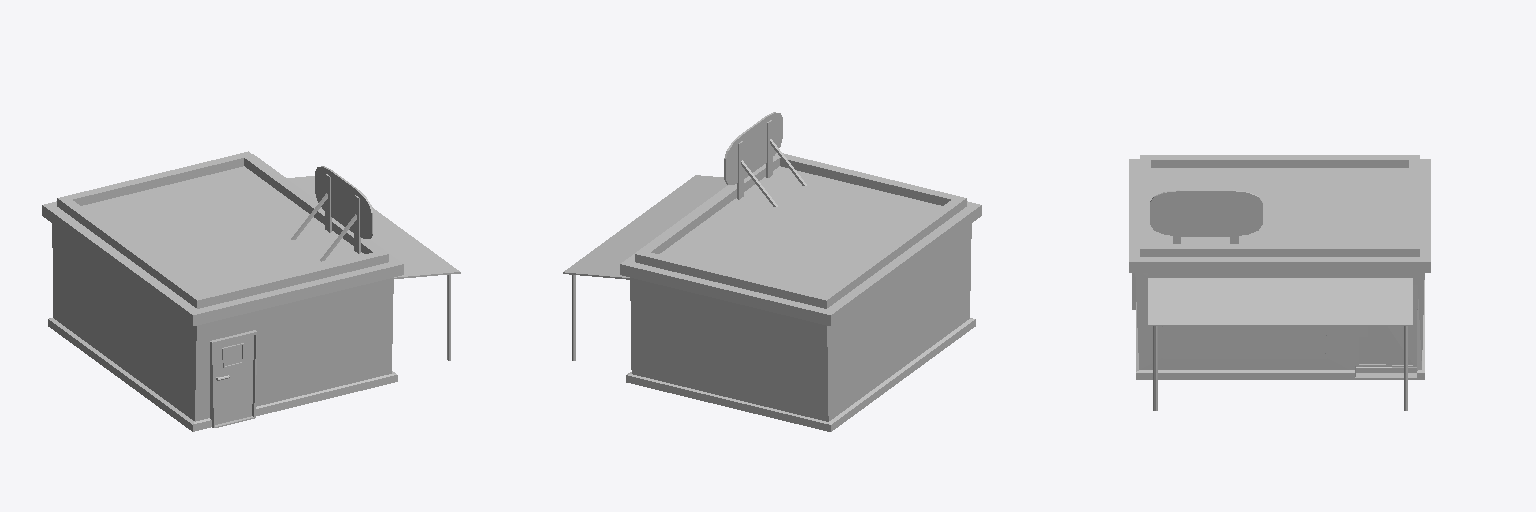
The model's file is shop_front.obj.
3 views of the same model, side by side, from view 1: azimuth 30°, elevation 25°; view 2: azimuth 150°, elevation 25°; view 3: azimuth 270°, elevation 25° (orthographic).
Visible parts, largest first — view 1: Cube.002_Cube.008; view 2: Cube.002_Cube.008; view 3: Cube.002_Cube.008.
Boxes of the visible parts, box(x1,y1,x2,y2) form: Cube.002_Cube.008: box(42, 151, 460, 431); Cube.002_Cube.008: box(563, 112, 981, 431); Cube.002_Cube.008: box(1129, 155, 1430, 410).
Size of the model in its own units: 6 by 3.75 by 5.67.